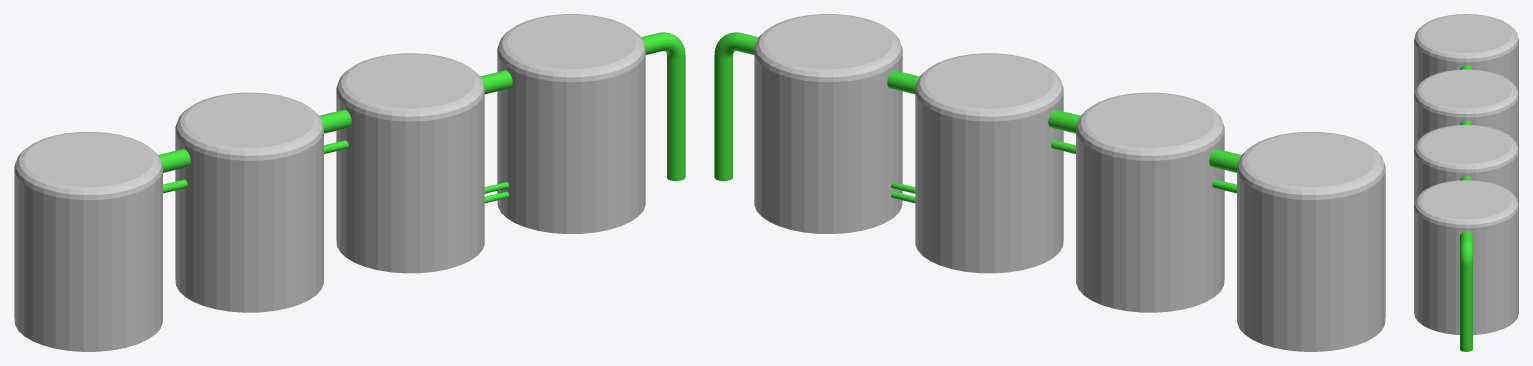
Rendered from tanks.fbx.
3 views of the same model, side by side, from view 1: azimuth 30°, elevation 25°; view 2: azimuth 150°, elevation 25°; view 3: azimuth 270°, elevation 25° (orthographic). The views are drawn at different scales.
Visible parts, largest first — view 1: Cylinder.005, Cylinder.009, Cylinder.007; view 2: Cylinder.005, Cylinder.009, Cylinder.007; view 3: Cylinder.005, Cylinder.009, Cylinder.007.
Boxes of the visible parts, x1=… form: Cylinder.005: x1=14, y1=14, x2=645, y2=351; Cylinder.009: x1=641, y1=32, x2=685, y2=181; Cylinder.007: x1=158, y1=70, x2=512, y2=172; Cylinder.005: x1=754, y1=14, x2=1385, y2=351; Cylinder.009: x1=714, y1=32, x2=758, y2=181; Cylinder.007: x1=887, y1=70, x2=1241, y2=172; Cylinder.005: x1=1414, y1=14, x2=1518, y2=334; Cylinder.009: x1=1460, y1=231, x2=1472, y2=351; Cylinder.007: x1=1460, y1=65, x2=1472, y2=180.
Size of the model in its own units: 1704 by 333 by 396.
